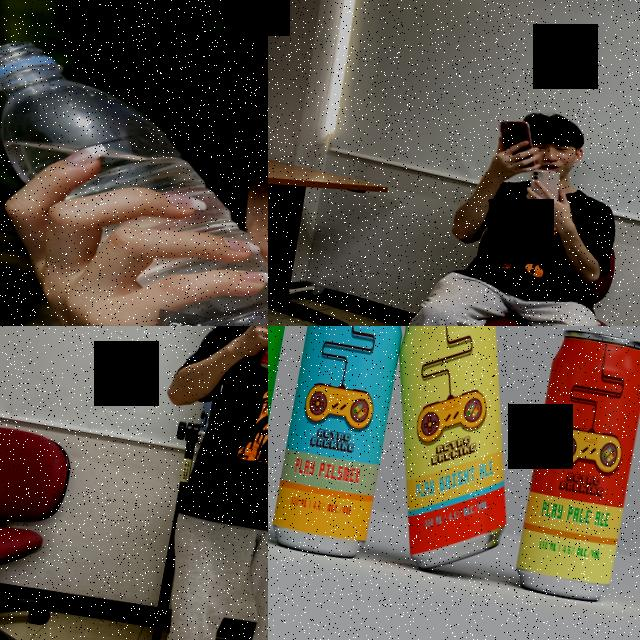bottle: (0, 31, 268, 326)
can: (361, 326, 545, 583), (512, 326, 640, 605), (268, 326, 408, 563)
